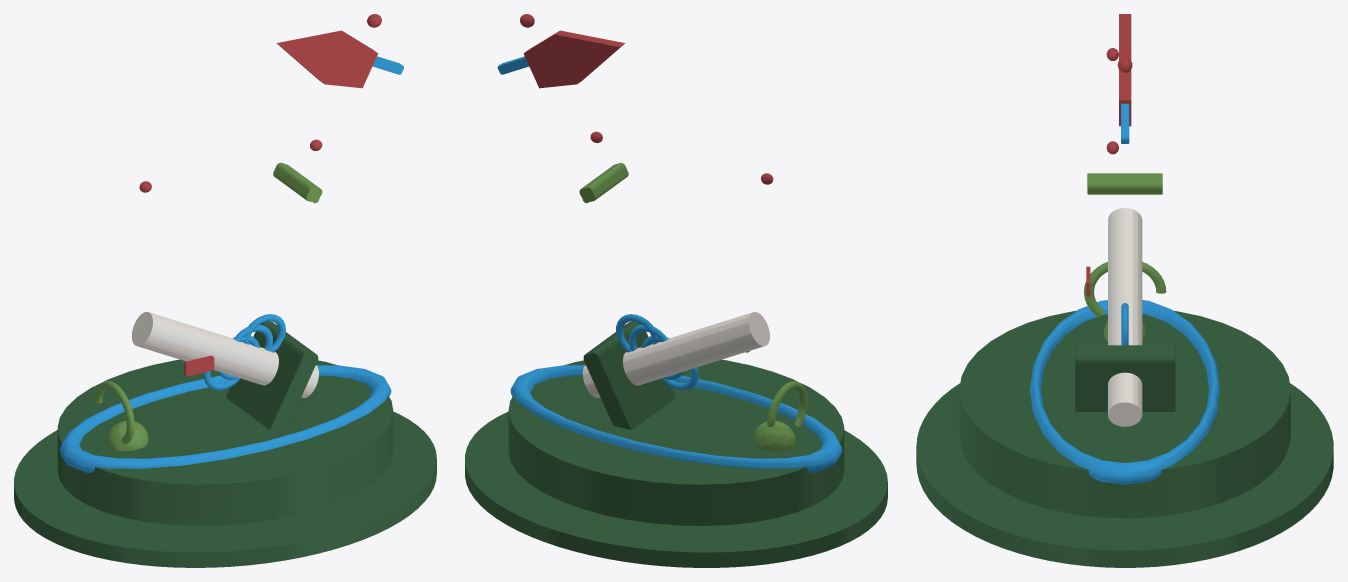
File: 0570_伟大的发明图鉴_杂交水稻.glb
The picture shows the model from 3 angles, left to right: view 1: azimuth 30°, elevation 25°; view 2: azimuth 150°, elevation 25°; view 3: azimuth 270°, elevation 25°; orthographic projection. The views are drawn at different scales.
Visible parts, largest first — view 1: card_0570; view 2: card_0570; view 3: card_0570.
Boxes of the visible parts, x1=… form: card_0570: x1=14, y1=14, x2=436, y2=567; card_0570: x1=465, y1=14, x2=887, y2=567; card_0570: x1=916, y1=14, x2=1333, y2=567.
Bounding box in the file's own units: 0.9007 × 1 × 0.7638.
